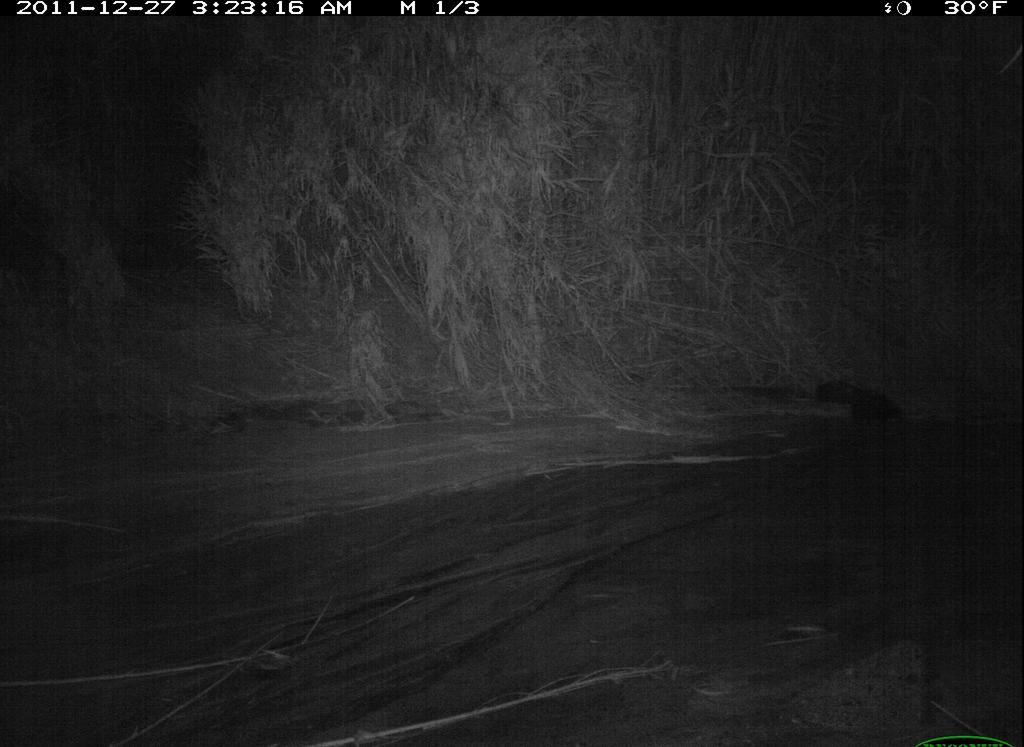skunk: (806, 360, 921, 449)
